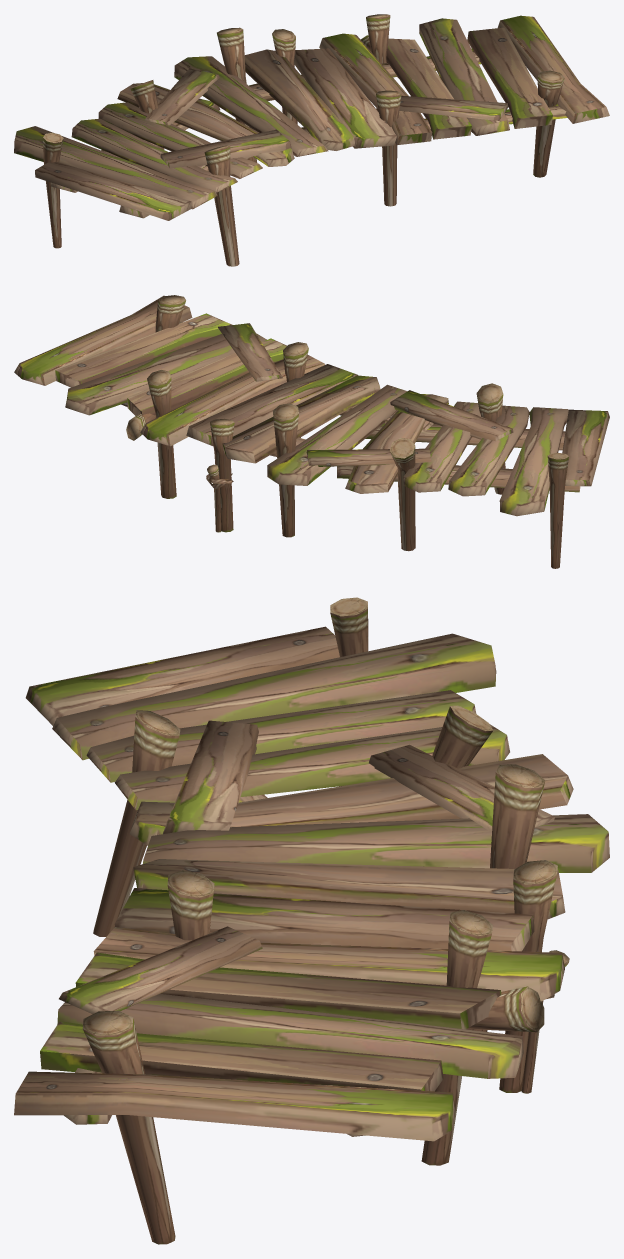
Rendered from Map_08_wooden10.FBX.
3 renders of one model, top to bottom at view 1: azimuth 30°, elevation 25°; view 2: azimuth 150°, elevation 25°; view 3: azimuth 270°, elevation 25°, orthographic. The views are drawn at different scales.
Visible parts, largest first — view 1: Map_08_wooden10; view 2: Map_08_wooden10; view 3: Map_08_wooden10.
Boxes of the visible parts, x1,y1,x2,y2 form: Map_08_wooden10: (14, 14, 609, 266); Map_08_wooden10: (14, 295, 609, 568); Map_08_wooden10: (14, 597, 609, 1244).
Bounding box in the file's own units: 266 × 64.1 × 132.
